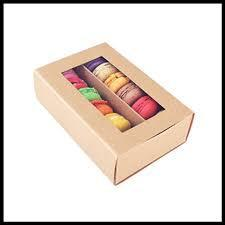box: (34, 41, 195, 184)
